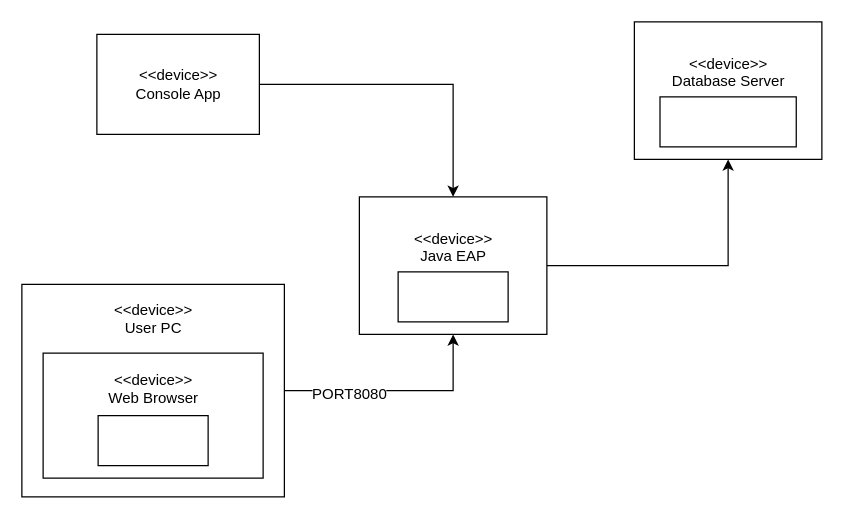
Some shapes in this 844 by 519 pixel diagram are drawn without their labels. Each missing label, with the centre of its shape:
<<artifact>> HTML5 player: the point at 152,440
<<artifact>> MySQL Database: the point at 727,121
<<web>> index.html: the point at 452,296
